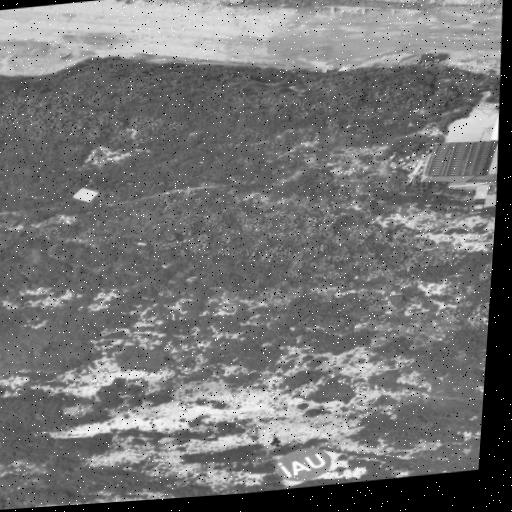person: (269, 435, 281, 446)
uai: (275, 446, 331, 480)
